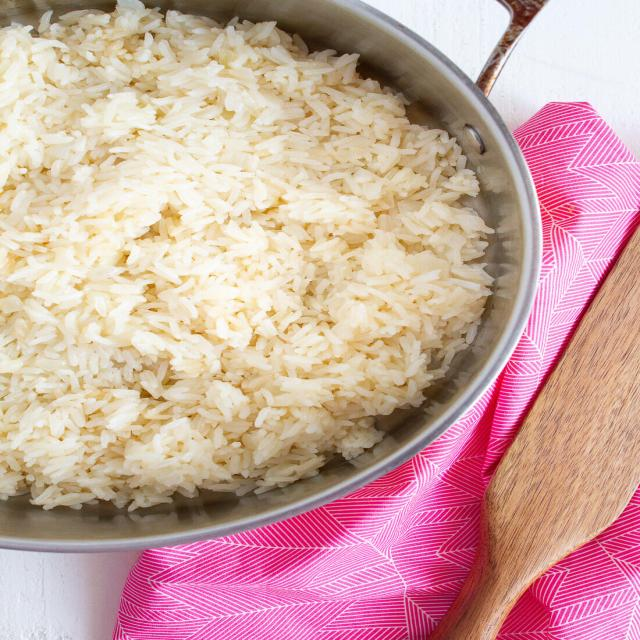Wet Waste: (0, 0, 500, 531)
